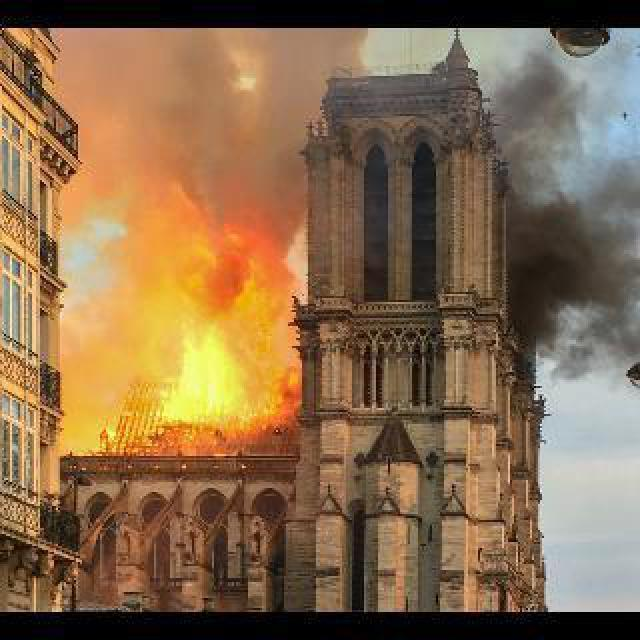Fire: (72, 216, 304, 464)
Smoke: (476, 50, 640, 378)
